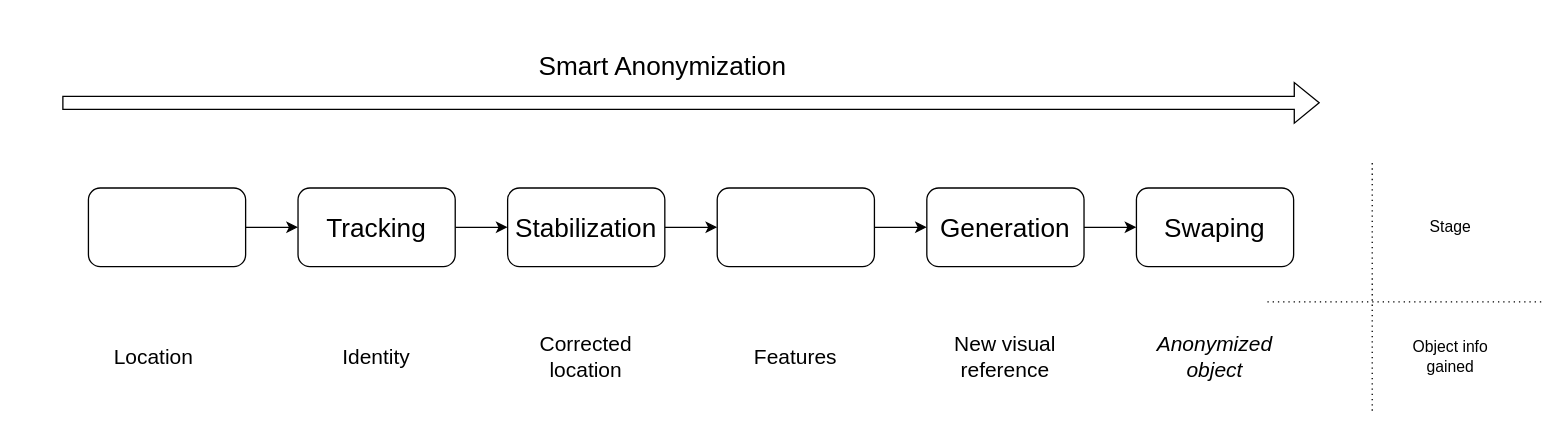
Some shapes in this 1567 by 435 pixel diagram are drawn without their labels. Here are the shapes that lost their labels. From the top down, the centre of each, then its label:
At point 166,227: "Detection".
At point 795,227: "Recognition".
